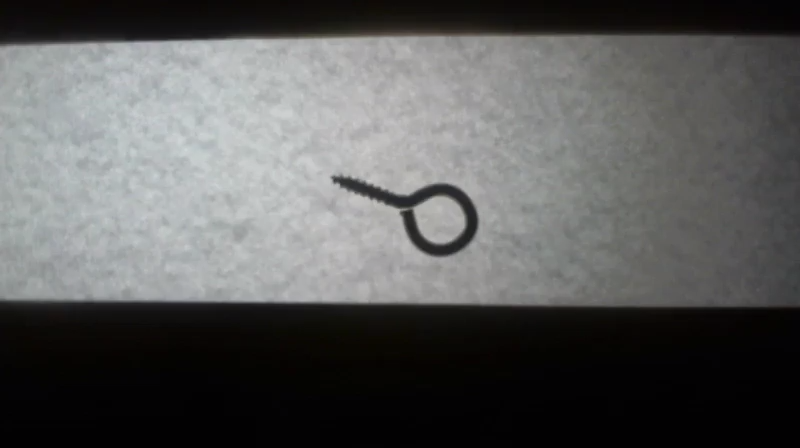O001: (326, 168, 483, 260)
